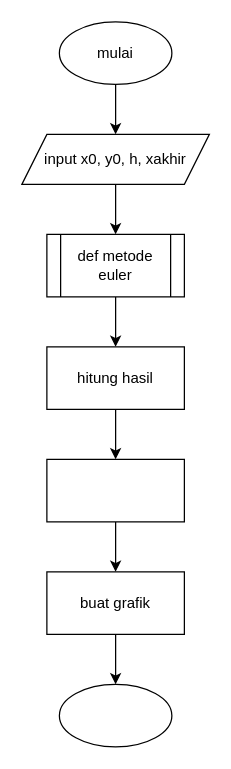
Some shapes in this 231 by 769 pixel diagram are drawn without their labels. The shapes that lost their labels are listed below. From the top down, each one's centre as x and y in pixels, then its label:
At point (115, 490): "hitung galat".
At point (115, 715): "selesai".
